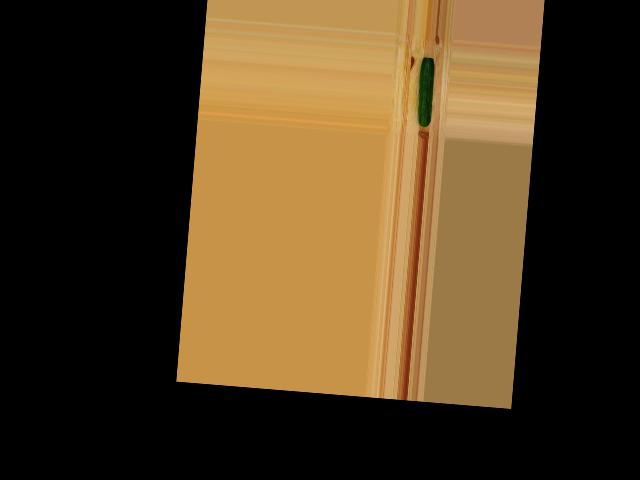cucumber: (416, 57, 435, 127)
